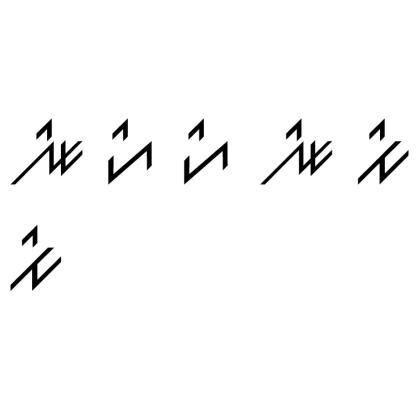hi: (102, 116, 160, 188), (178, 118, 238, 187)
mbi: (348, 115, 412, 186), (9, 224, 69, 296)
ndi: (254, 114, 338, 194), (9, 117, 85, 190)
